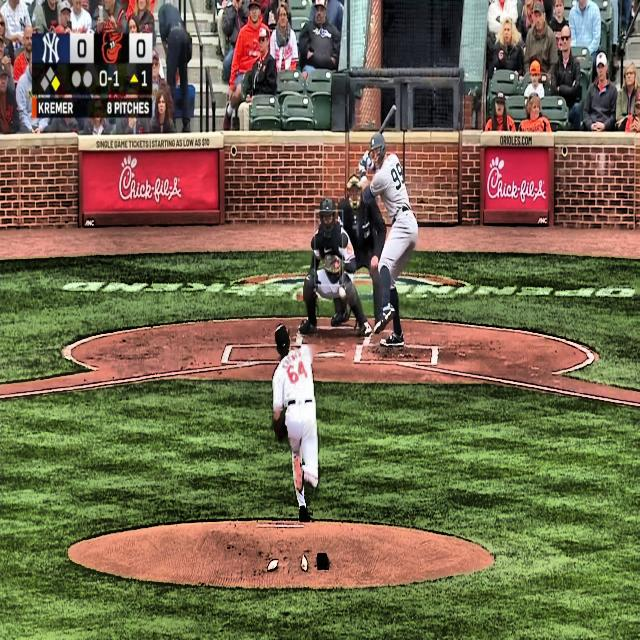baseball: (338, 286, 347, 300)
